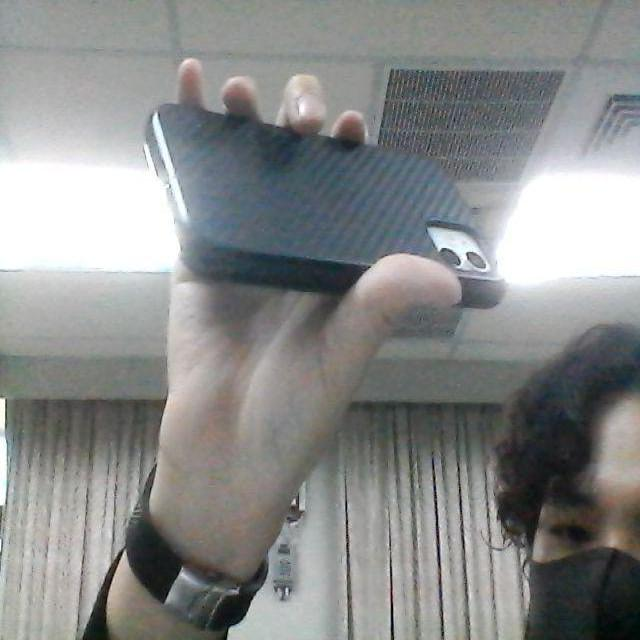mobile: (140, 99, 504, 309)
